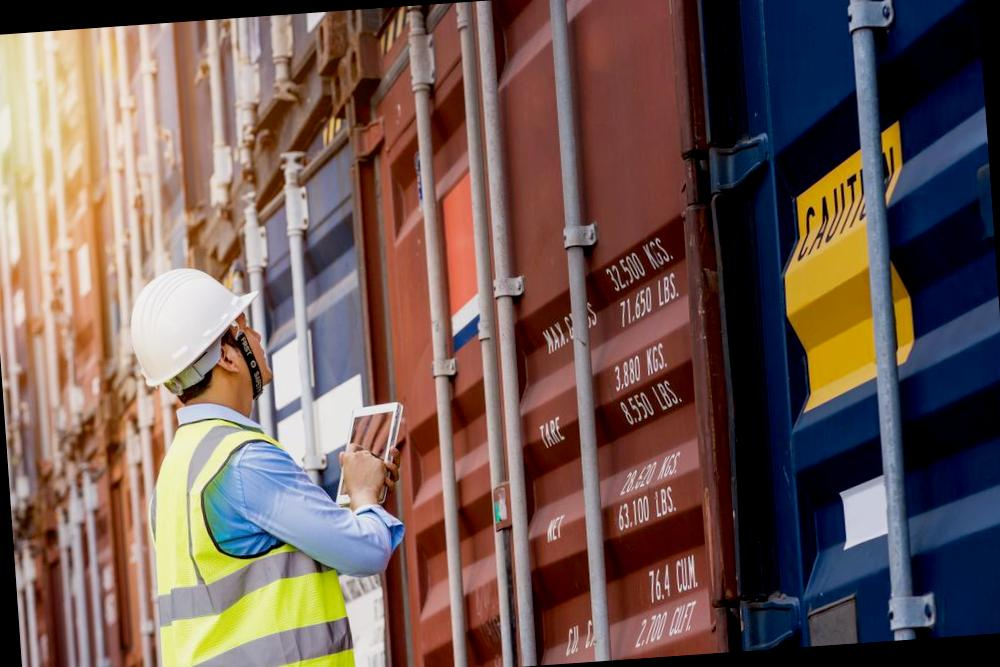helmet: (110, 260, 280, 393)
person: (115, 252, 408, 667)
